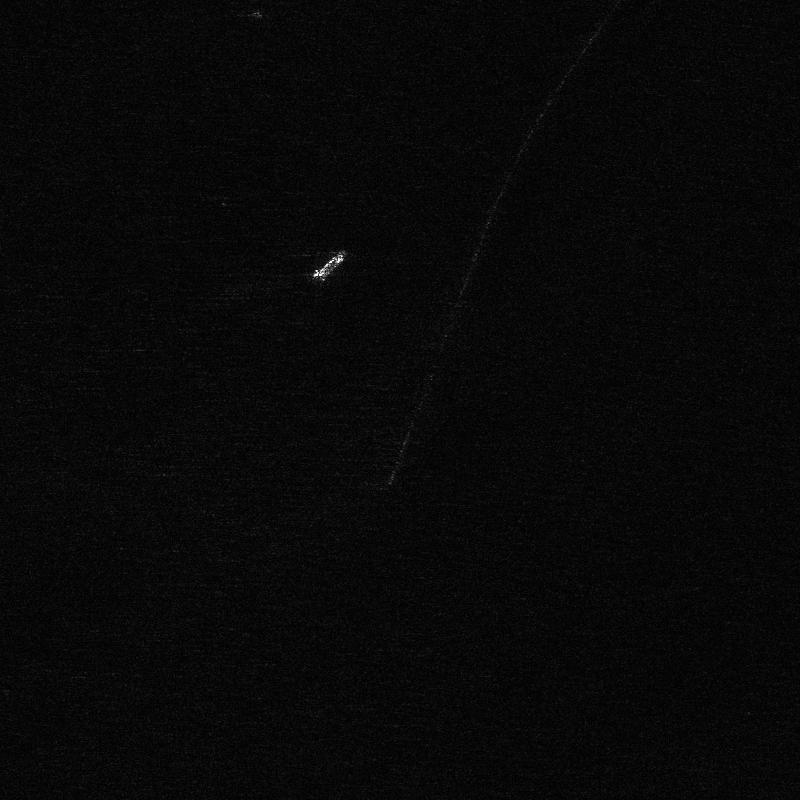ship: (313, 250, 347, 280)
